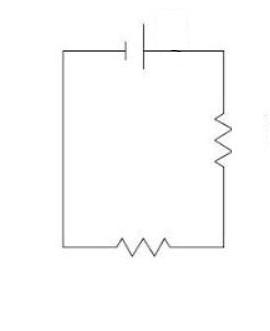resistor: (85, 217, 184, 272), (201, 96, 240, 187)
